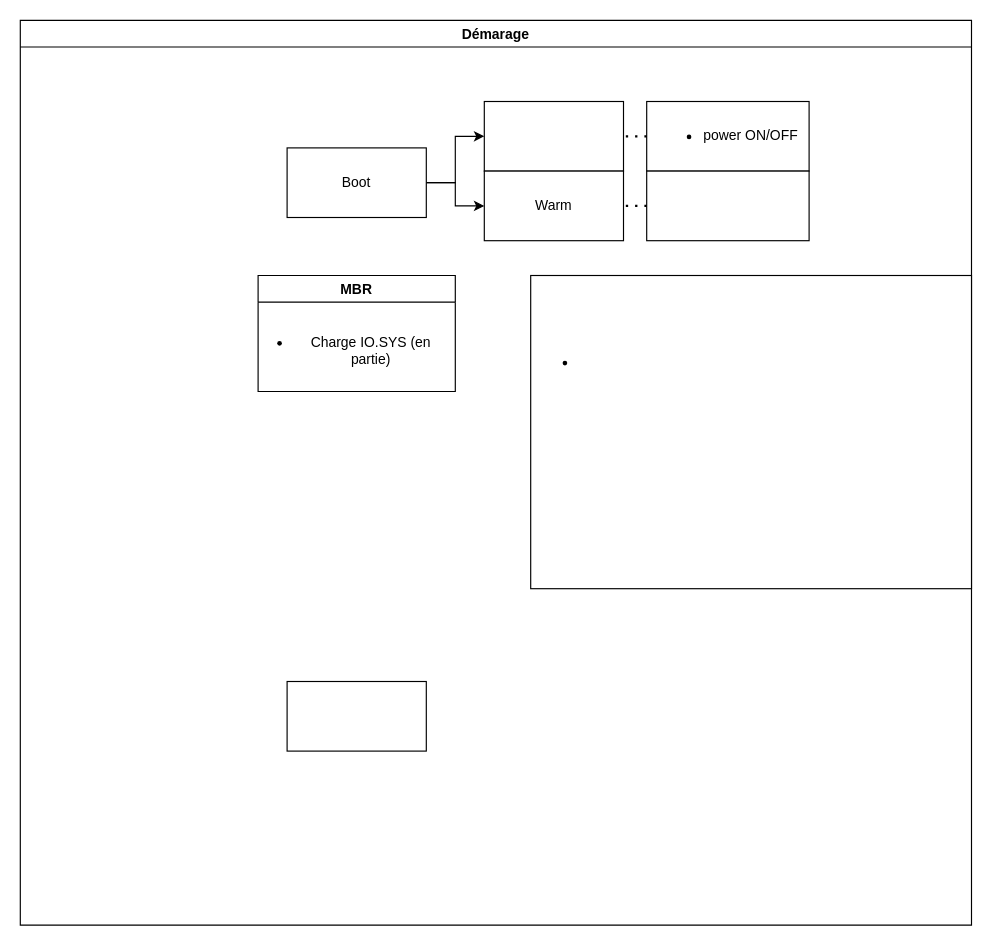
Image size: 992x945. Some labels were removed from this diagram. The box of each missing label's shape, as (x1, y1, x2, y2) in pixels:
cold: (483, 100, 624, 171)
rechargement du programme: (646, 170, 809, 241)
